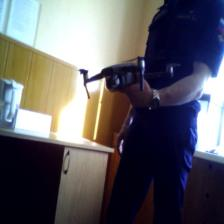drone: (74, 52, 185, 102)
